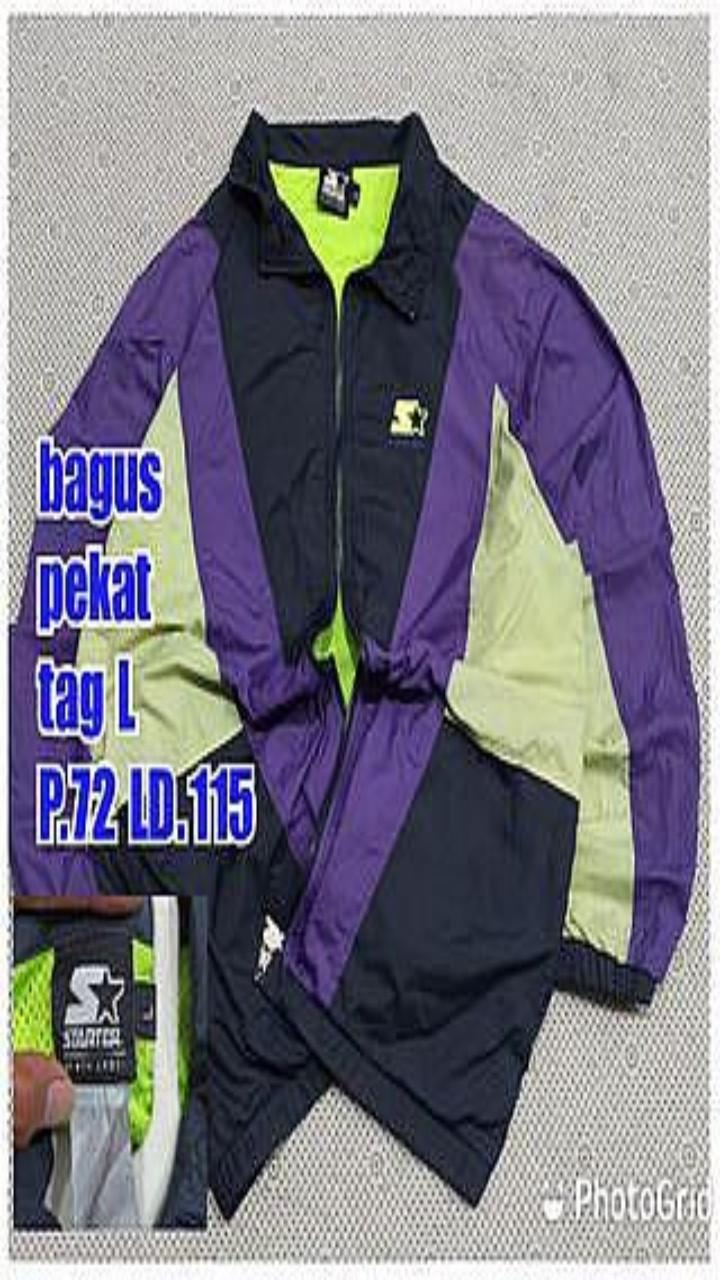Sports_Jacket: (11, 114, 698, 1212)
